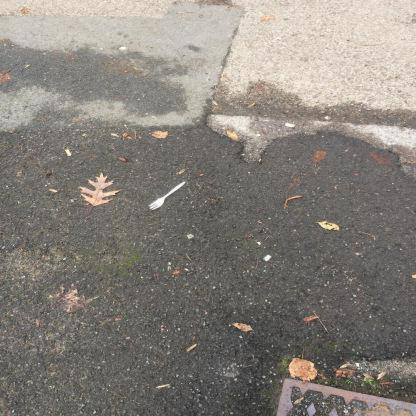Cigarette: (64, 149, 72, 156)
Other litter: (149, 182, 186, 211)
